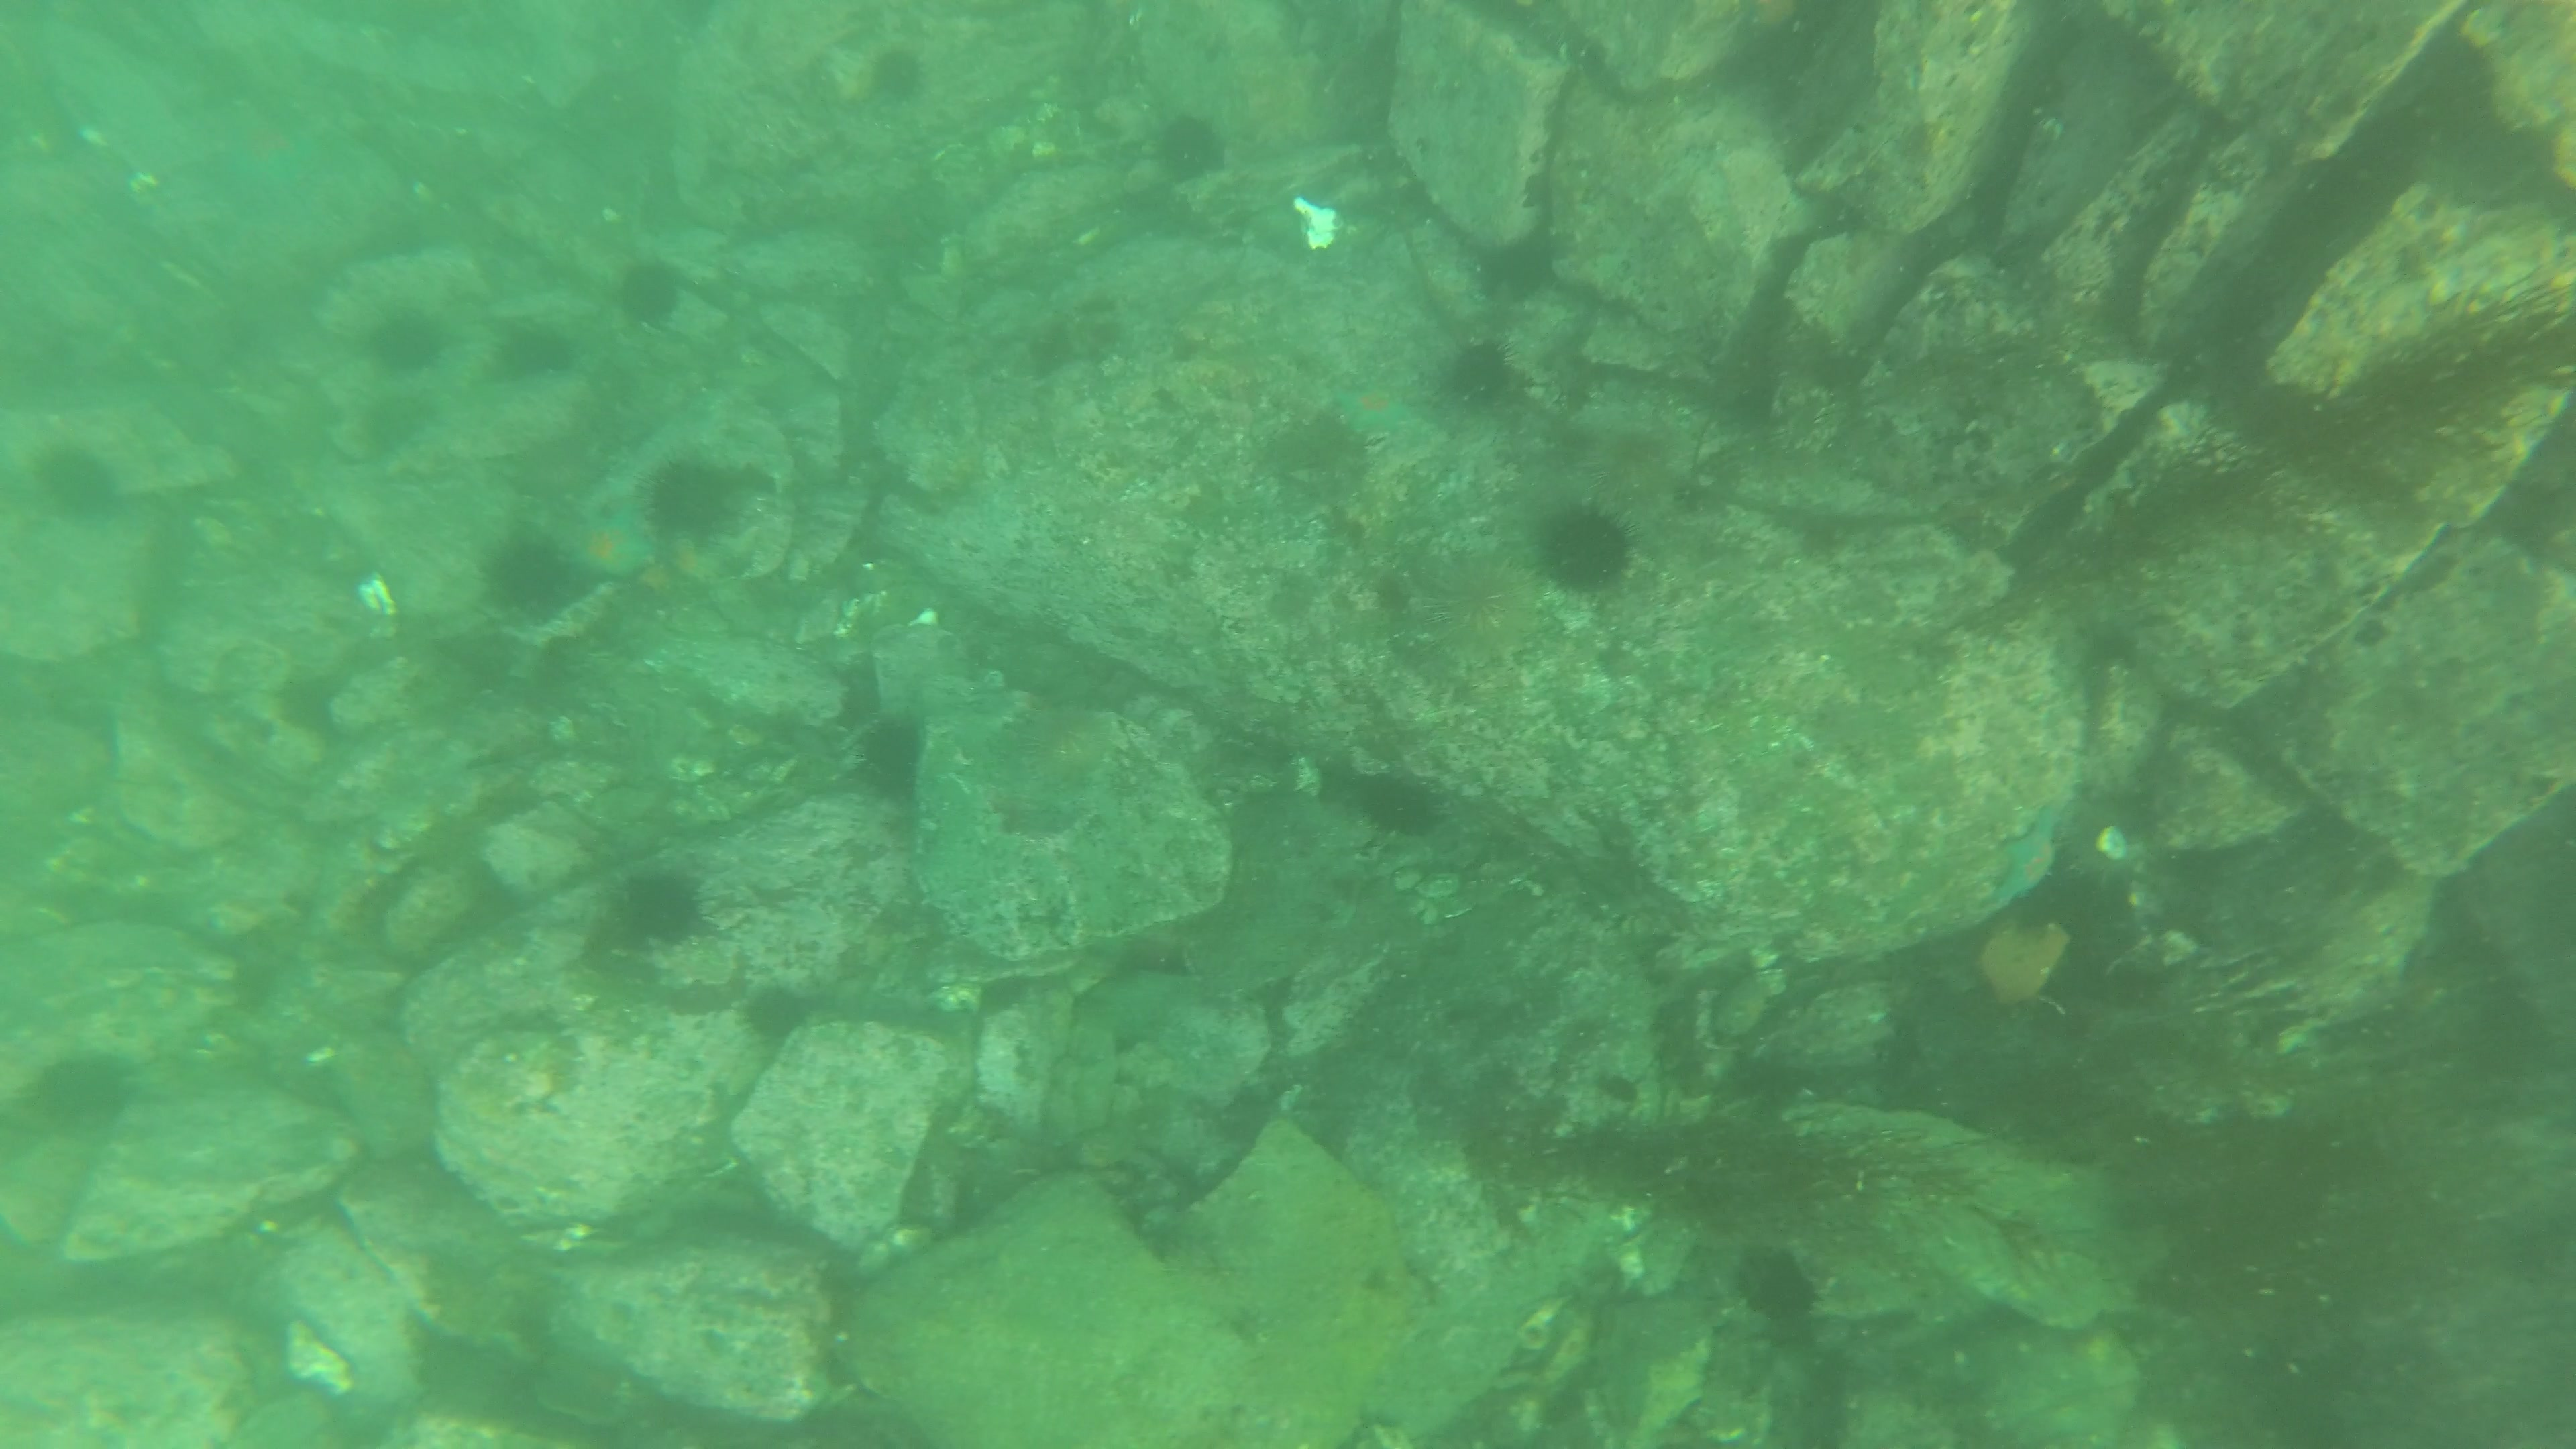echinus: (1424, 548, 1541, 655), (1534, 494, 1631, 600), (490, 538, 591, 621), (41, 1060, 143, 1136), (639, 460, 736, 540), (614, 876, 694, 952), (39, 444, 122, 517), (1154, 117, 1224, 191), (368, 308, 444, 370), (614, 258, 686, 322), (497, 320, 573, 377), (869, 724, 927, 793)
starfish: (1994, 814, 2063, 918), (570, 510, 653, 582), (1336, 375, 1407, 441)
